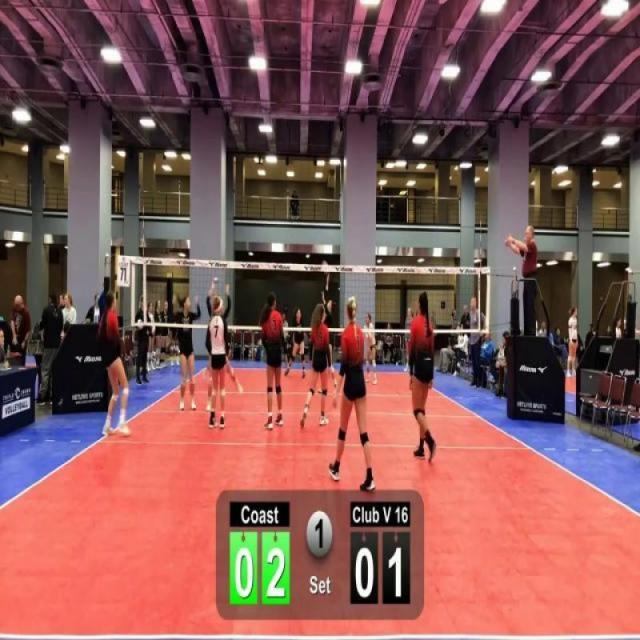volleyball: (321, 260, 328, 274)
